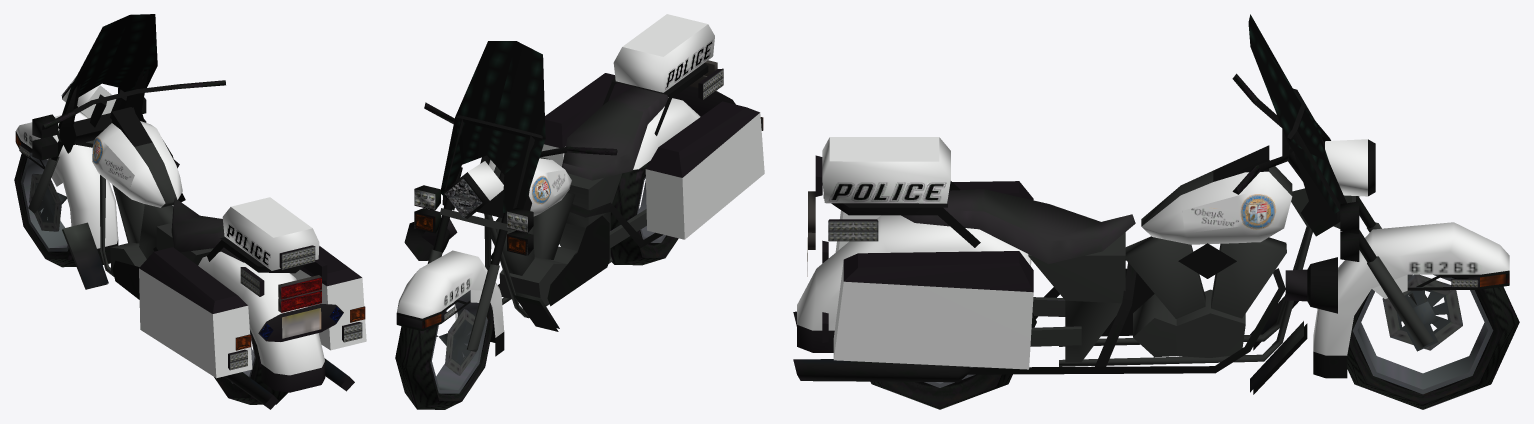
File: policeb.glb
The picture shows the model from 3 angles, left to right: view 1: azimuth 30°, elevation 25°; view 2: azimuth 150°, elevation 25°; view 3: azimuth 270°, elevation 25°; orthographic projection. The views are drawn at different scales.
Parts seen in each view (by area): view 1: chassis; view 2: chassis; view 3: chassis.
Part boxes in pixels (x1,y1,x2,y2): chassis: (14, 14, 366, 409); chassis: (395, 14, 764, 409); chassis: (793, 14, 1519, 409).
Bounding box in the file's own units: 0.8921 × 1.4 × 2.39.
8 materials, 8 textured.
